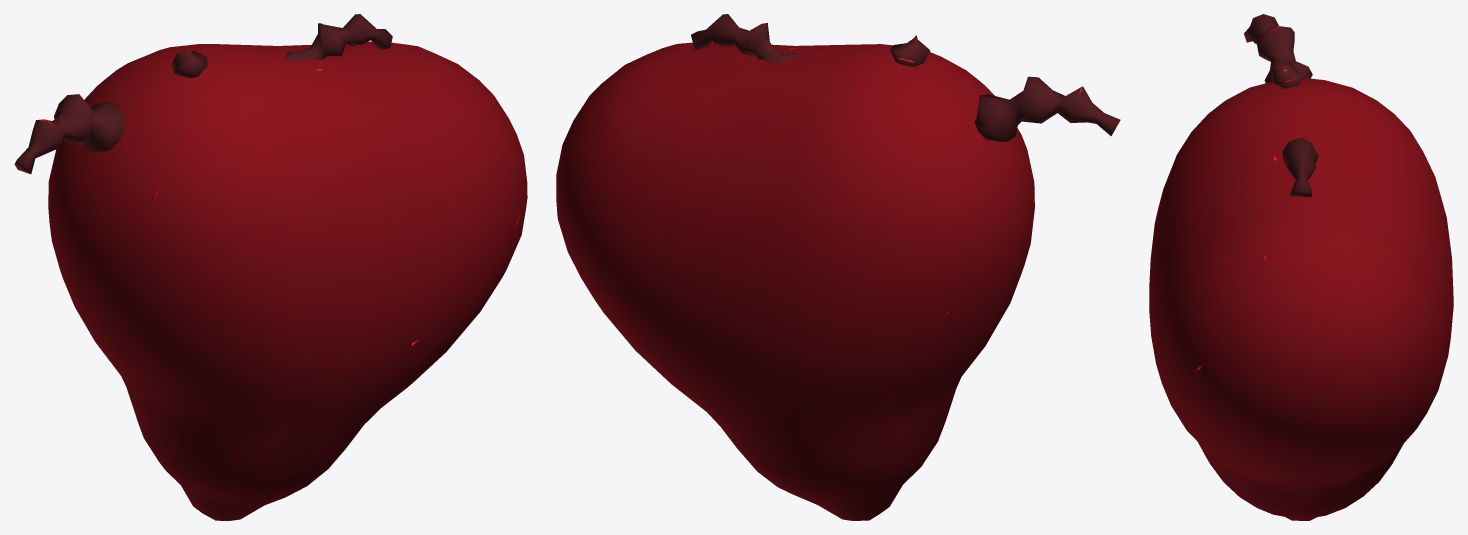
The model's file is corazon_de_titan.fbx.
3 renders of one model, left to right at view 1: azimuth 30°, elevation 25°; view 2: azimuth 150°, elevation 25°; view 3: azimuth 270°, elevation 25°, orthographic. The views are drawn at different scales.
Visible parts, largest first — view 1: corazon_de_titan_cristal, corazon_de_titan; view 2: corazon_de_titan_cristal, corazon_de_titan; view 3: corazon_de_titan_cristal, corazon_de_titan.
Boxes of the visible parts, left/top/right/bottom form: corazon_de_titan_cristal: left=48, top=41, right=527, bottom=520; corazon_de_titan: left=14, top=14, right=392, bottom=174; corazon_de_titan_cristal: left=556, top=42, right=1034, bottom=520; corazon_de_titan: left=691, top=14, right=1120, bottom=142; corazon_de_titan_cristal: left=1149, top=78, right=1453, bottom=520; corazon_de_titan: left=1244, top=14, right=1318, bottom=196.
Bounding box in the file's own units: 4.18 × 3.75 × 2.38.
3 materials, 3 textured.
